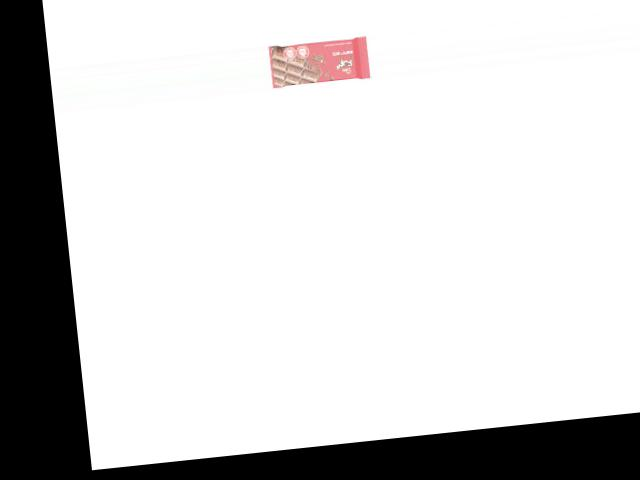chocolate: (268, 35, 372, 88)
